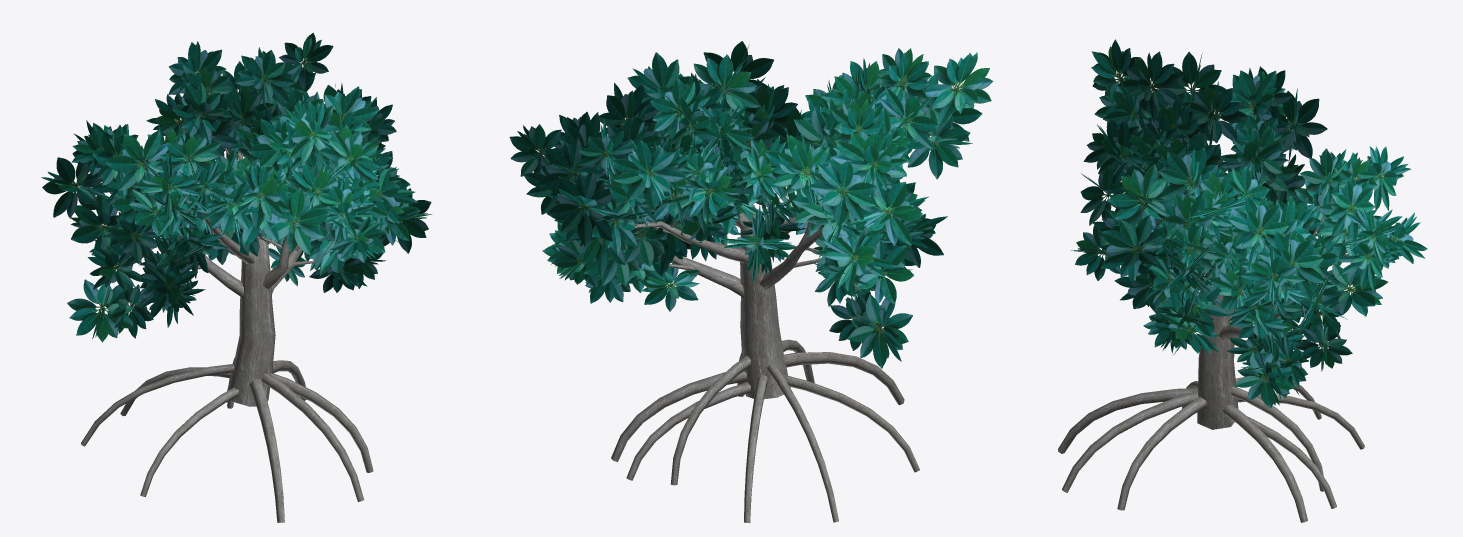
The model's file is nature-blue-mangrove.glb.
3 renders of one model, left to right at view 1: azimuth 30°, elevation 25°; view 2: azimuth 150°, elevation 25°; view 3: azimuth 270°, elevation 25°, orthographic. The views are drawn at different scales.
Parts seen in each view (by area): view 1: nature-blue-mangrove; view 2: nature-blue-mangrove; view 3: nature-blue-mangrove.
Part boxes in pixels (<box>): nature-blue-mangrove: <box>41,32,432,522</box>; nature-blue-mangrove: <box>509,41,993,522</box>; nature-blue-mangrove: <box>1058,39,1427,522</box>.
Size of the model in its own units: 7 by 6.74 by 6.08.
2 materials, 2 textured.
